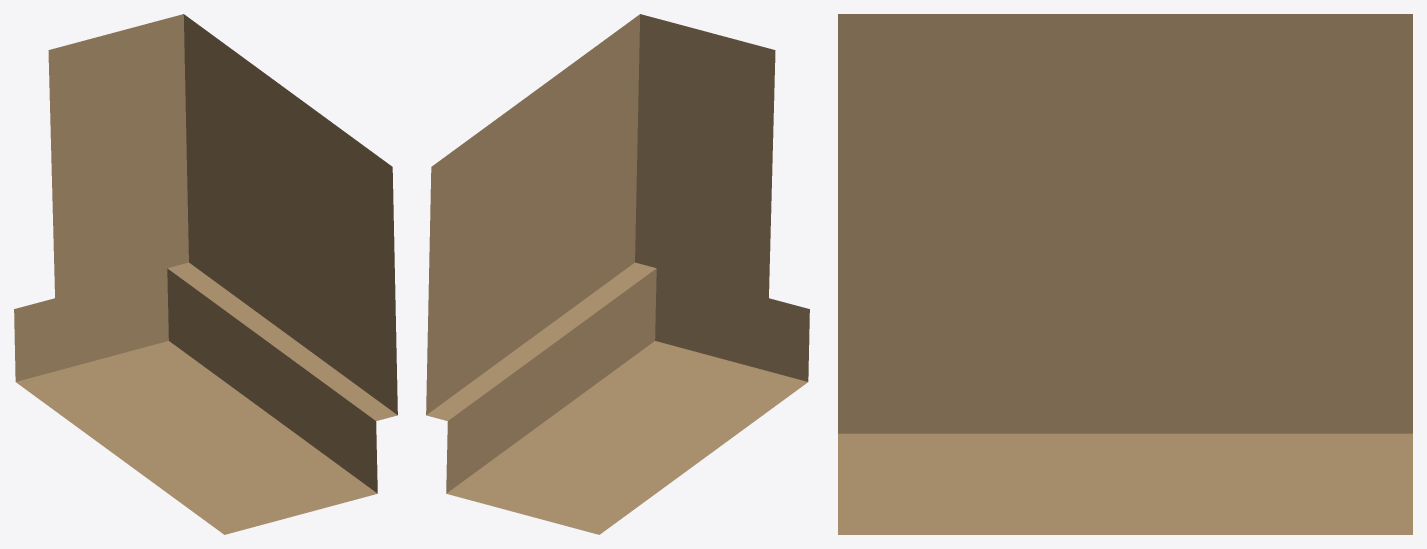
3 views of the same model, side by side, from view 1: azimuth 30°, elevation 25°; view 2: azimuth 150°, elevation 25°; view 3: azimuth 270°, elevation 25° (orthographic). The views are drawn at different scales.
Parts seen in each view (by area): view 1: 0_0_2_0_1_0_0_1_0; view 2: 0_0_2_0_1_0_0_1_0; view 3: 0_0_2_0_1_0_0_1_0.
Part boxes in pixels (box(x1,y1,x2,y2)): 0_0_2_0_1_0_0_1_0: box(14, 14, 397, 534); 0_0_2_0_1_0_0_1_0: box(426, 14, 809, 534); 0_0_2_0_1_0_0_1_0: box(838, 14, 1412, 534).
Size of the model in its own units: 14.5 by 25.91 by 30.
